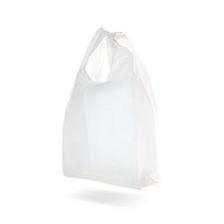plastic_bag: (55, 19, 165, 192)
